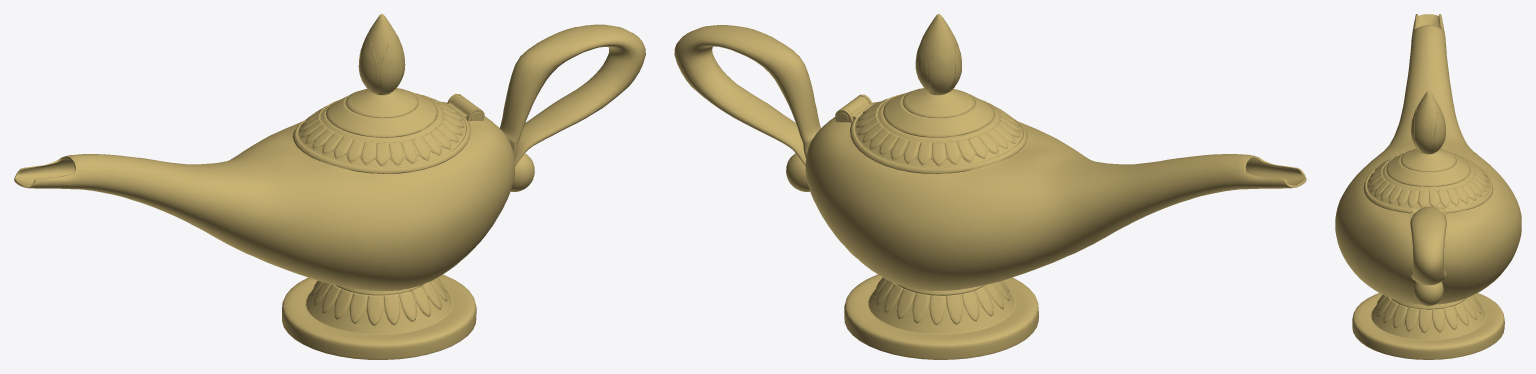
Rendered from genie.draco.glb.
The picture shows the model from 3 angles, left to right: view 1: azimuth 30°, elevation 25°; view 2: azimuth 150°, elevation 25°; view 3: azimuth 270°, elevation 25°; orthographic projection. The views are drawn at different scales.
Visible parts, largest first — view 1: polySurface1__pPlane7_group_15 - Default_0; view 2: polySurface1__pPlane7_group_15 - Default_0; view 3: polySurface1__pPlane7_group_15 - Default_0.
Part boxes in pixels (x1=…): polySurface1__pPlane7_group_15 - Default_0: x1=14, y1=14, x2=645, y2=359; polySurface1__pPlane7_group_15 - Default_0: x1=674, y1=14, x2=1306, y2=359; polySurface1__pPlane7_group_15 - Default_0: x1=1335, y1=14, x2=1521, y2=359.
Size of the model in its own units: 0.8817 by 0.4083 by 0.2907.
